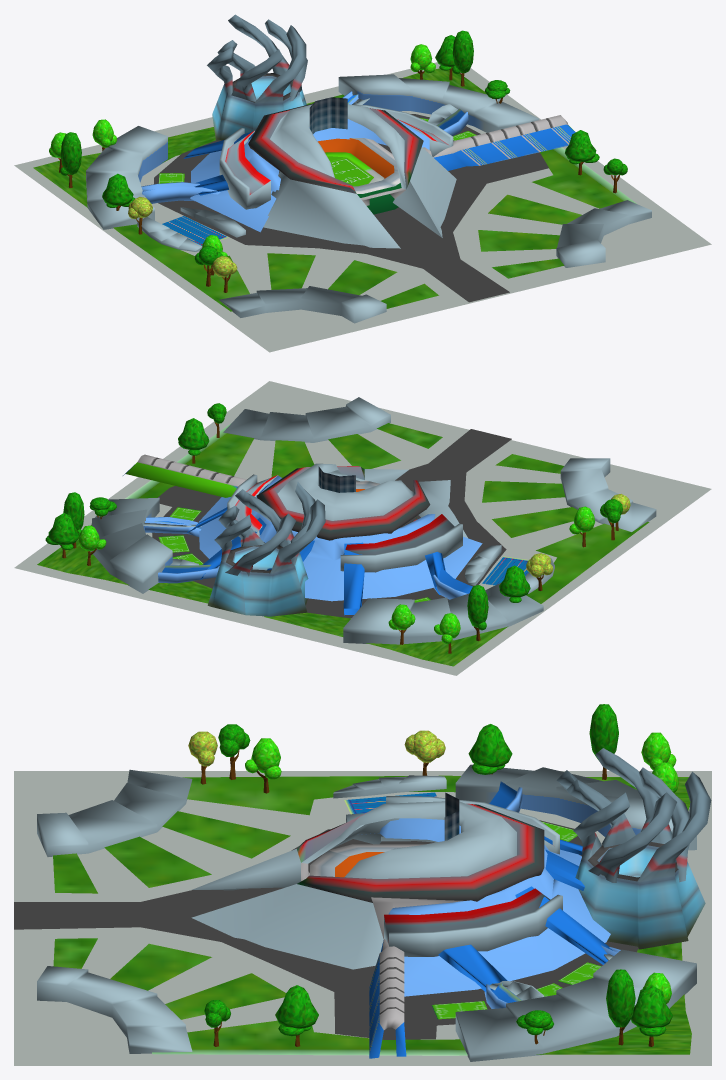
File: sportshub_LV3.fbx
The picture shows the model from 3 angles, top to bottom: view 1: azimuth 30°, elevation 25°; view 2: azimuth 150°, elevation 25°; view 3: azimuth 270°, elevation 25°; orthographic projection. The views are drawn at different scales.
Visible parts, largest first — view 1: stadium 3; view 2: stadium 3; view 3: stadium 3.
Part boxes in pixels (box(x1,y1,x2,y2)): stadium 3: box(14, 14, 711, 352); stadium 3: box(14, 381, 711, 675); stadium 3: box(14, 704, 711, 1065).
Bounding box in the file's own units: 202 × 45.83 × 200.
